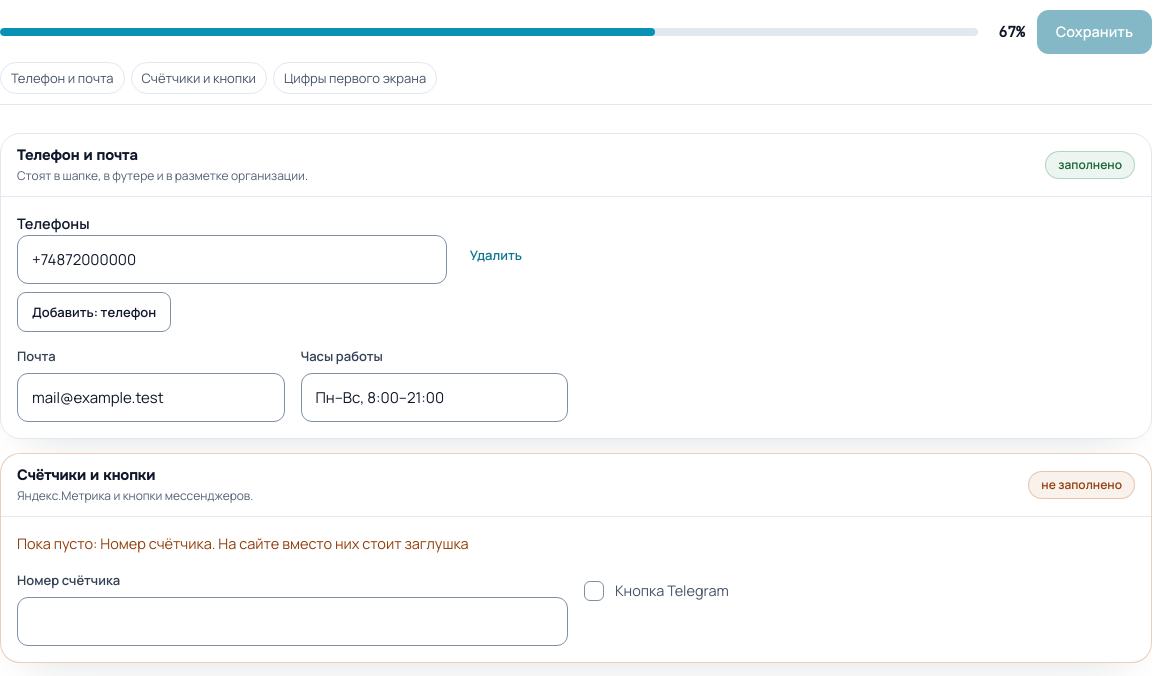
it: Данные компании: одна кнопка на тринадцать групп › 🔴 отказ одной группы не отменяет сохранённые соседние
Step 1. Type "x" into the field labelled "Почта" → (151, 398), box [17,373,284,422]
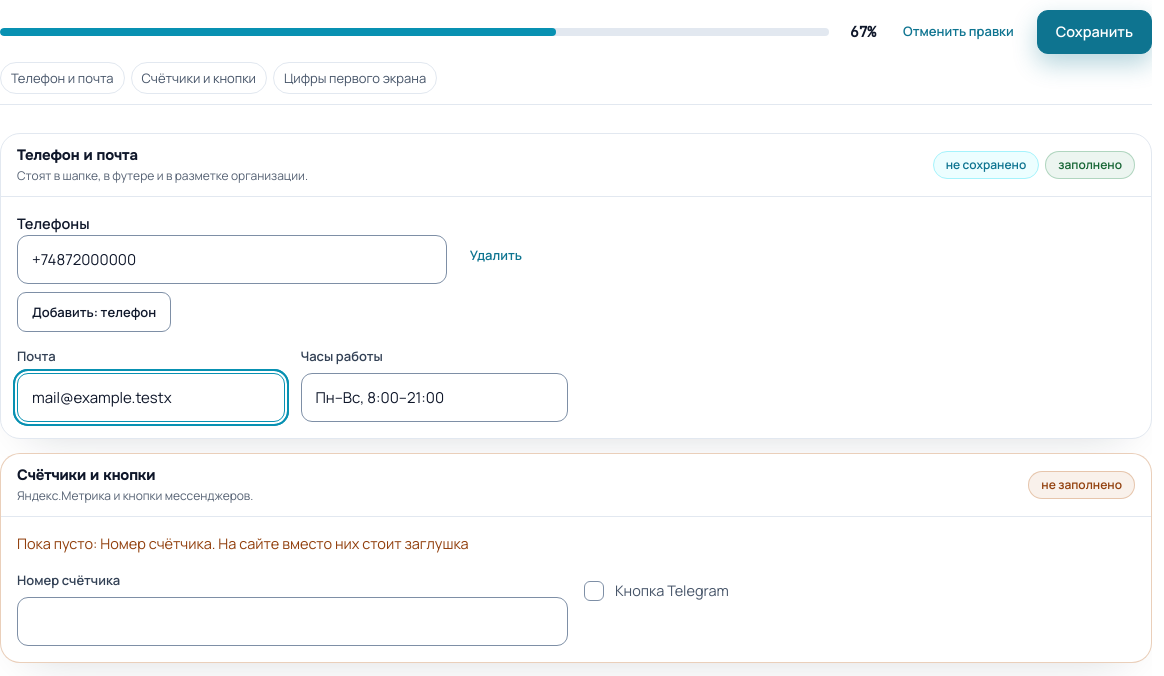
Step 2. Type "12345" into the field labelled "Номер счётчика" → (292, 621), box [17,597,568,646]
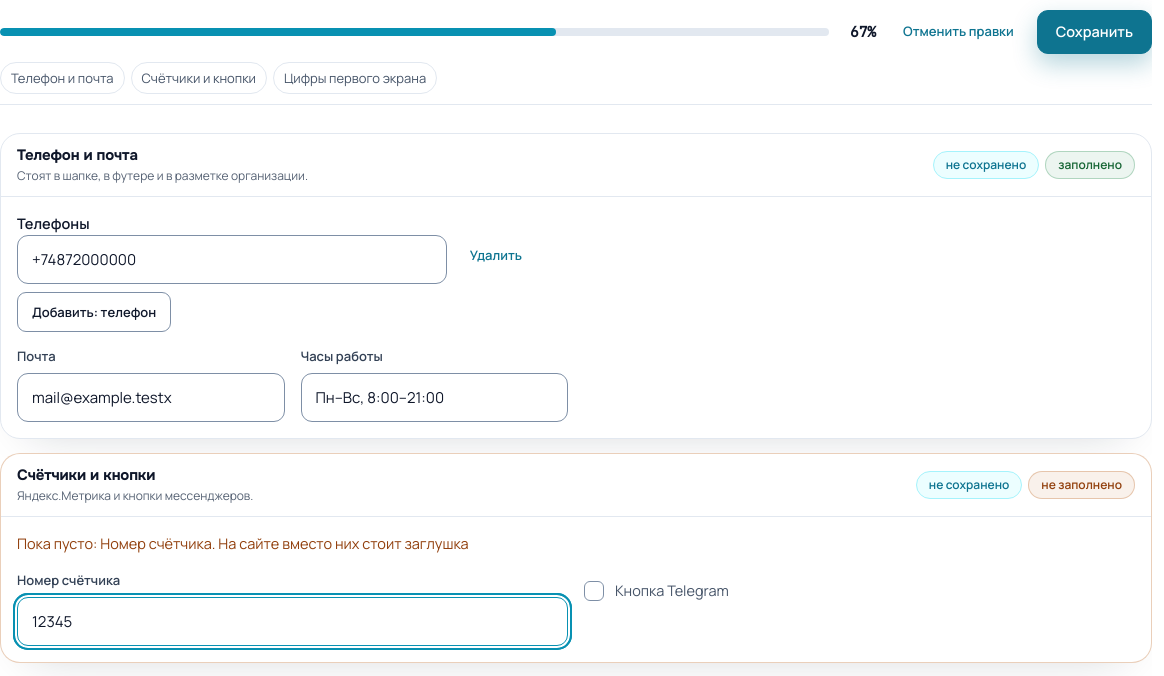
Step 3. Click the button "Сохранить" → (1094, 32), box [1037,10,1152,54]
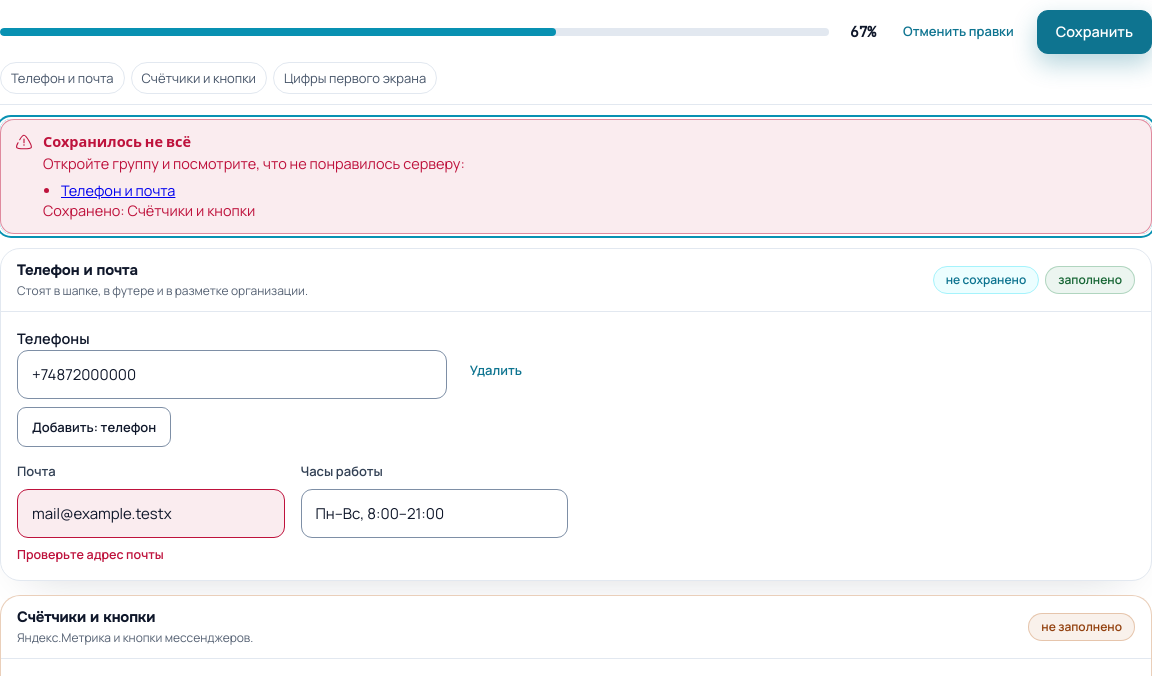
Now the text "Сохранилось не всё" is shown, box [43,132,191,151]
